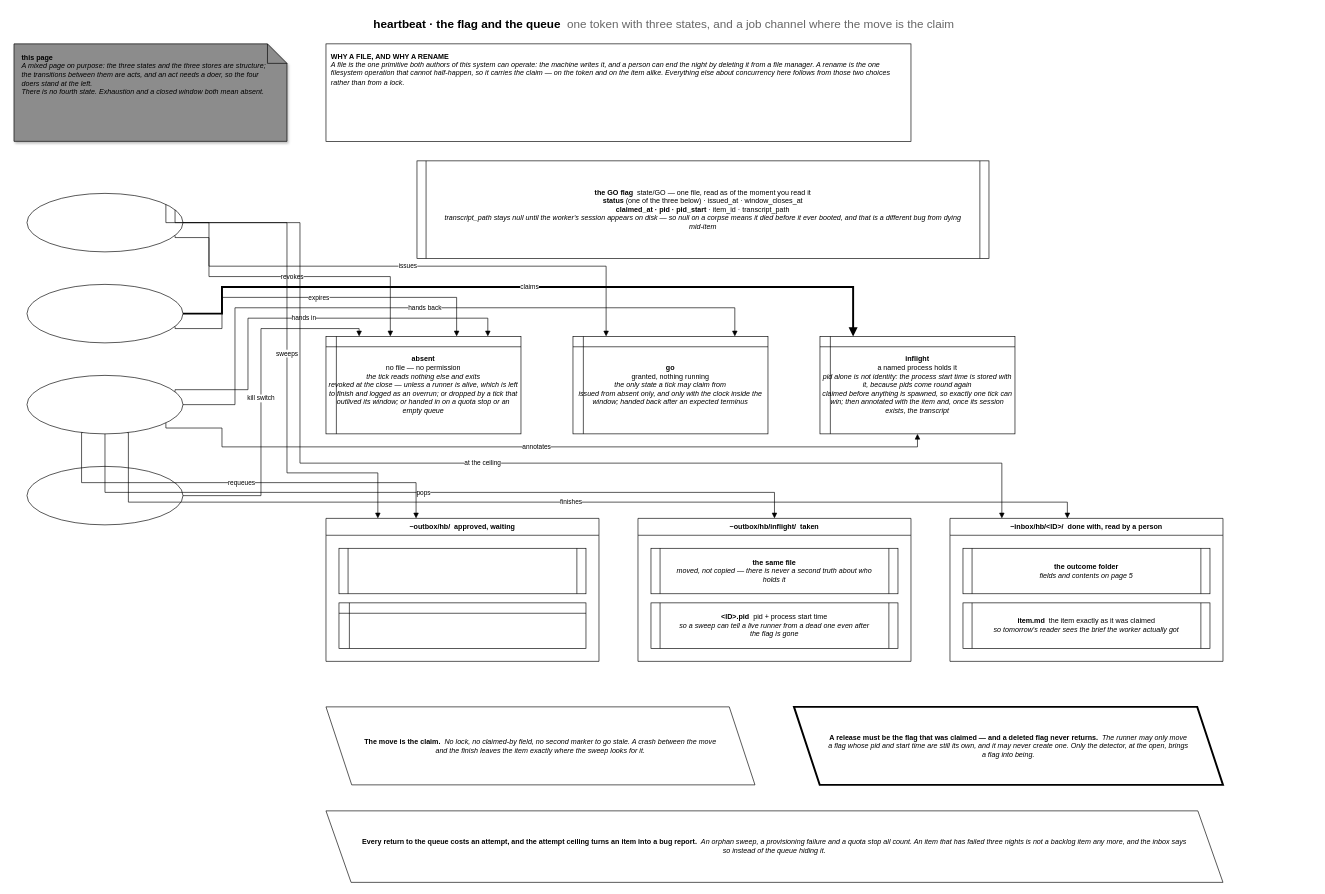
This 1325x894 diagram has some shape labels left out. Each missing label, with the centre of its shape:
"an item <ID>.md one file, so the claim can be a rename" goes at point (462, 571).
"heartbeat tick" goes at point (104, 313).
"pop order — priority 9 down to 0, then oldest approval first" goes at point (462, 625).
"the human" goes at point (104, 495).
"the runner" goes at point (104, 404).
"window detector" goes at point (104, 222).
